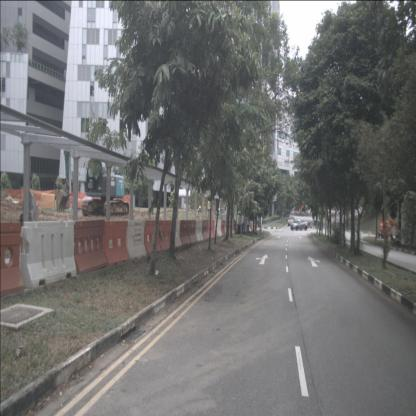movable_object-barrier: (18, 220, 76, 288), (74, 218, 108, 275), (0, 221, 25, 297), (104, 220, 130, 266), (126, 220, 147, 260), (144, 220, 162, 255), (159, 220, 172, 252), (171, 220, 182, 250), (180, 220, 191, 247), (117, 195, 132, 212), (188, 220, 198, 244), (196, 220, 204, 242), (202, 220, 209, 241), (208, 220, 214, 239), (217, 220, 222, 236), (221, 219, 225, 236), (224, 220, 228, 235), (234, 220, 238, 234), (248, 221, 252, 232), (250, 221, 254, 232)
movable_object-trafficcone: (260, 222, 262, 232), (368, 231, 370, 237)
vehicle-car: (290, 219, 308, 231), (288, 217, 295, 226)
